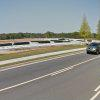Car: (83, 35, 100, 57)
